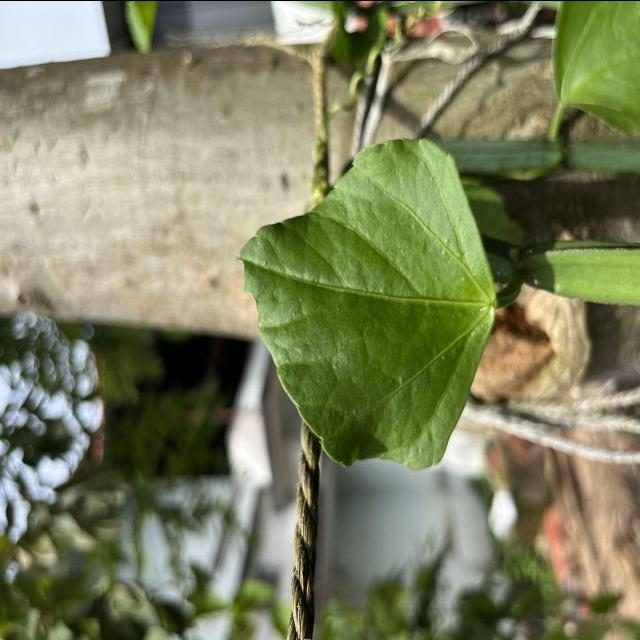Cissus quadrangularis: (232, 134, 502, 474)
